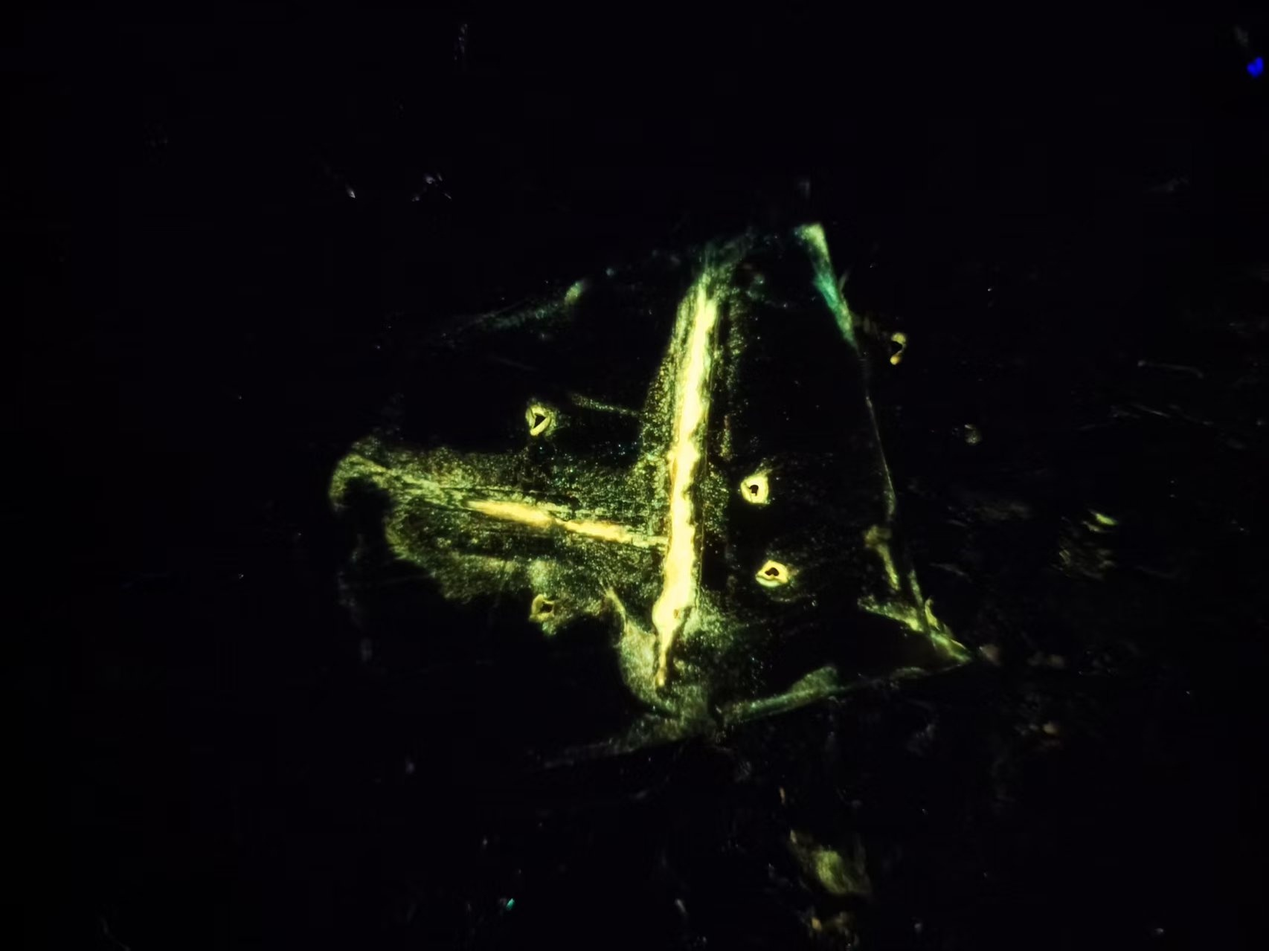Crater: (731, 464, 797, 524), (748, 548, 808, 605), (508, 395, 569, 445)
Fissure: (629, 248, 743, 705), (339, 442, 663, 560)
